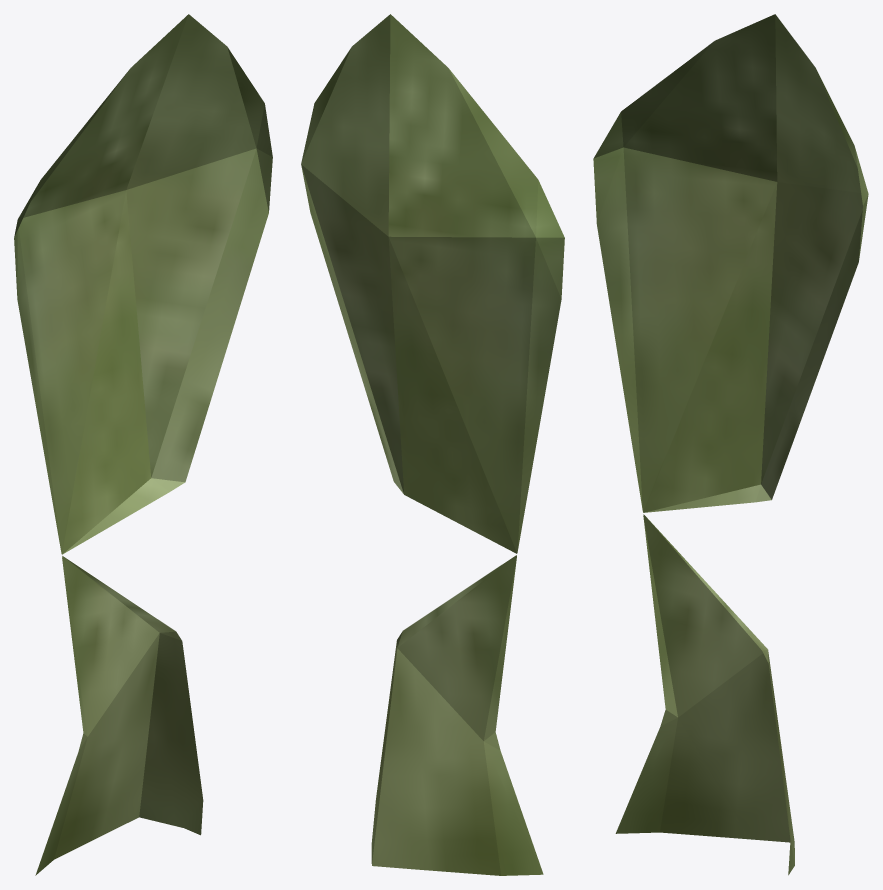
3 views of the same model, side by side, from view 1: azimuth 30°, elevation 25°; view 2: azimuth 150°, elevation 25°; view 3: azimuth 330°, elevation 25° (orthographic). The views are drawn at different scales.
Bounding box in the file's own units: 0.2042 × 0.6214 × 0.0466.
1 material, 1 textured.
